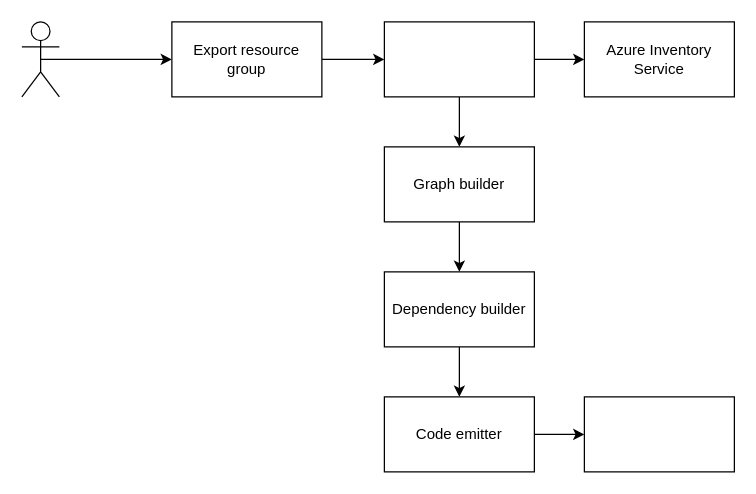
The diagram is 756 pixels wide and 494 high, and some of its shapes have lost their labels. The centre of each missing label's shape, as x and y in pixels:
"Actor" goes at (x=40, y=59).
"Inventory service" goes at (x=458, y=59).
"Terraform emitter" goes at (x=658, y=434).
